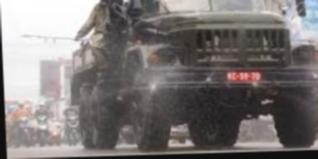License_Plate: (226, 67, 263, 84)
